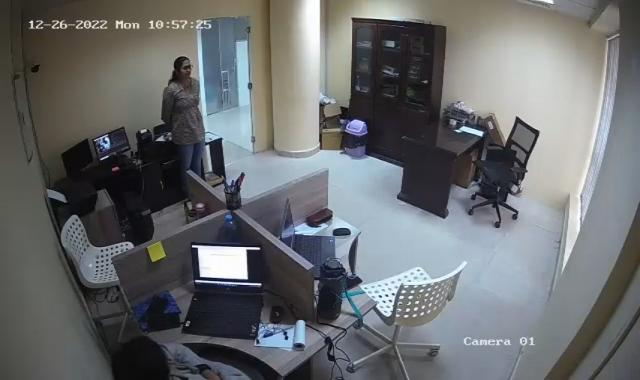no_hairnet: (116, 335, 173, 380), (172, 55, 196, 83)
